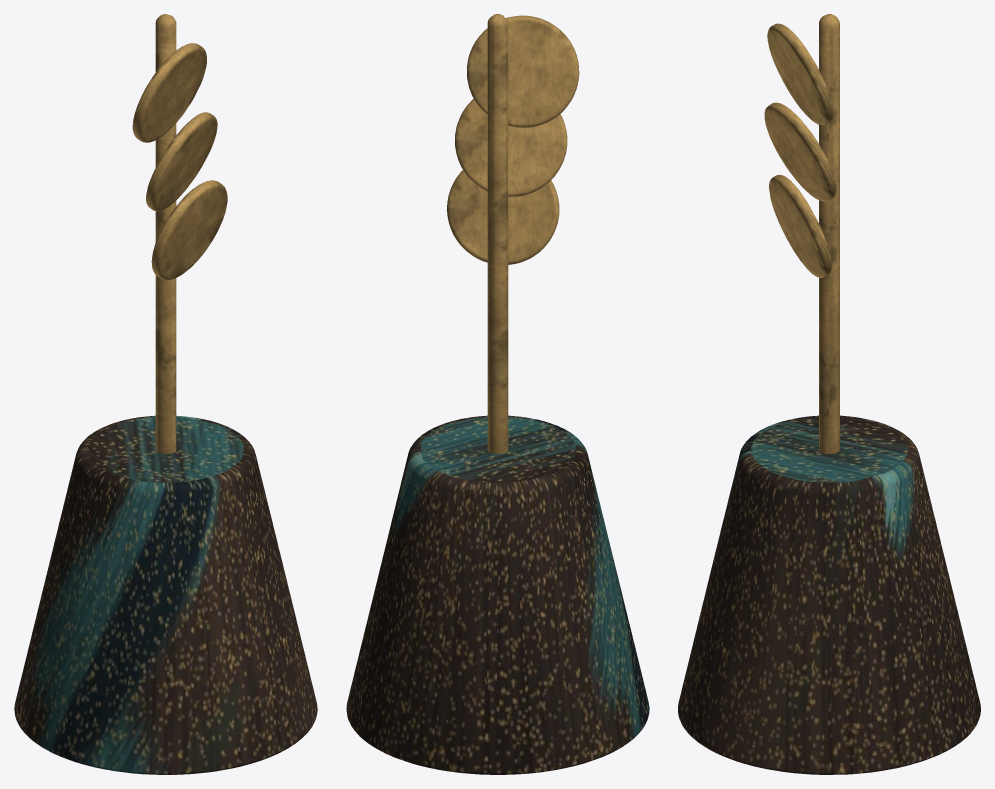
File: queen-black.glb
The picture shows the model from 3 angles, left to right: view 1: azimuth 30°, elevation 25°; view 2: azimuth 150°, elevation 25°; view 3: azimuth 270°, elevation 25°; orthographic projection.
Parts seen in each view (by area): view 1: Telo, Tyc, Mince_3, Mince_1, Mince_2; view 2: Telo, Tyc, Mince_1, Mince_2, Mince_3; view 3: Telo, Tyc, Mince_2, Mince_1, Mince_3.
Boxes of the visible parts, box(x1,y1,x2,y2) form: Telo: box(14, 415, 317, 774); Tyc: box(155, 14, 176, 453); Mince_3: box(151, 180, 227, 280); Mince_1: box(132, 43, 206, 142); Mince_2: box(146, 112, 217, 211); Telo: box(346, 415, 649, 774); Tyc: box(487, 14, 508, 453); Mince_1: box(467, 15, 579, 127); Mince_2: box(455, 98, 567, 196); Mince_3: box(447, 170, 559, 264); Telo: box(678, 415, 980, 774); Tyc: box(819, 14, 839, 453); Mince_2: box(764, 102, 836, 201); Mince_1: box(767, 23, 833, 124); Mince_3: box(769, 174, 831, 277).
Size of the model in its own units: 0.6384 by 1.62 by 0.638.
3 materials, 3 textured.
